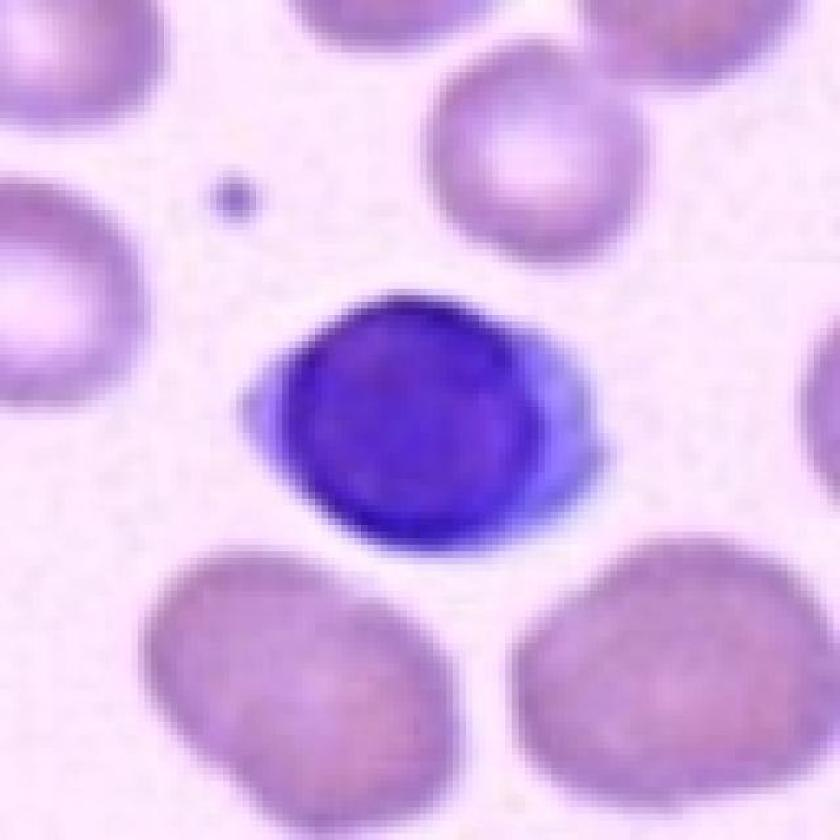lymphocyte: (222, 282, 623, 555)
